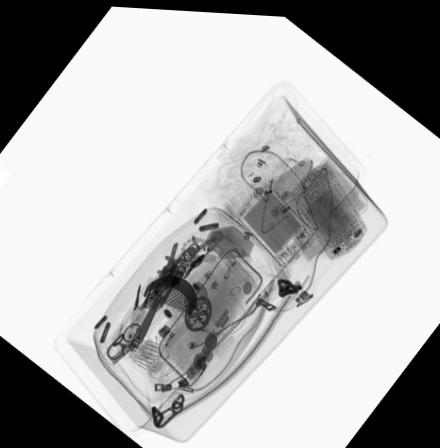Powerbank: (239, 178, 315, 264)
